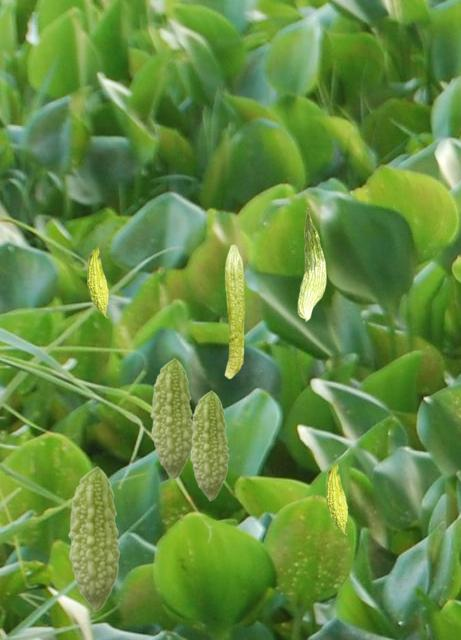ampalaya: (67, 466, 120, 612), (150, 358, 194, 480), (189, 390, 229, 501), (297, 207, 327, 322), (224, 244, 245, 379), (325, 458, 348, 536), (86, 243, 109, 318)
